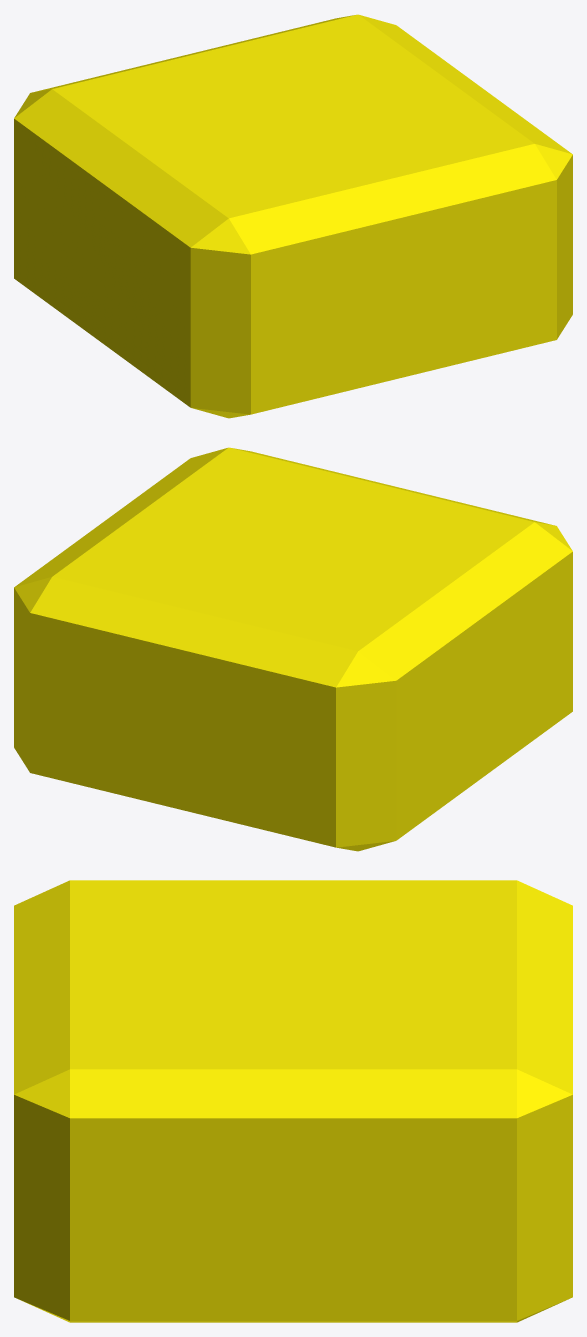
The model's file is Floor.fbx.
3 renders of one model, top to bottom at view 1: azimuth 30°, elevation 25°; view 2: azimuth 150°, elevation 25°; view 3: azimuth 270°, elevation 25°, orthographic. The views are drawn at different scales.
Parts seen in each view (by area): view 1: pCube1; view 2: pCube1; view 3: pCube1.
Part boxes in pixels (x1,y1,x2,y2): pCube1: [14, 14, 572, 418]; pCube1: [14, 447, 572, 851]; pCube1: [14, 880, 572, 1322].
Size of the model in its own units: 1 by 0.5 by 1.
Materials: 1 (1 with a texture image).
